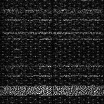lte: (1, 86, 104, 95), (1, 31, 104, 34)
